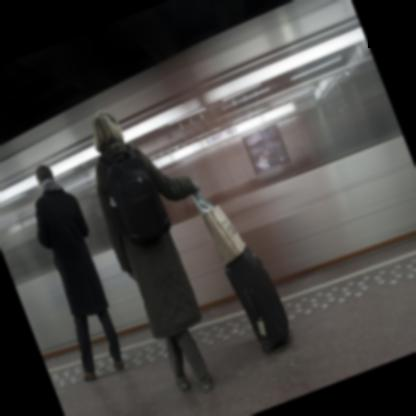backpack: (97, 143, 171, 247)
handbag: (191, 190, 243, 263)
suitcase: (224, 248, 290, 356)
